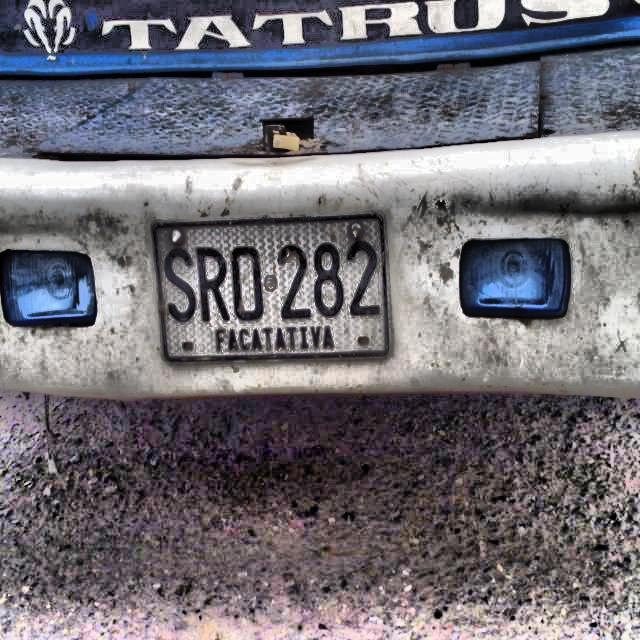plate: (154, 215, 388, 360)
